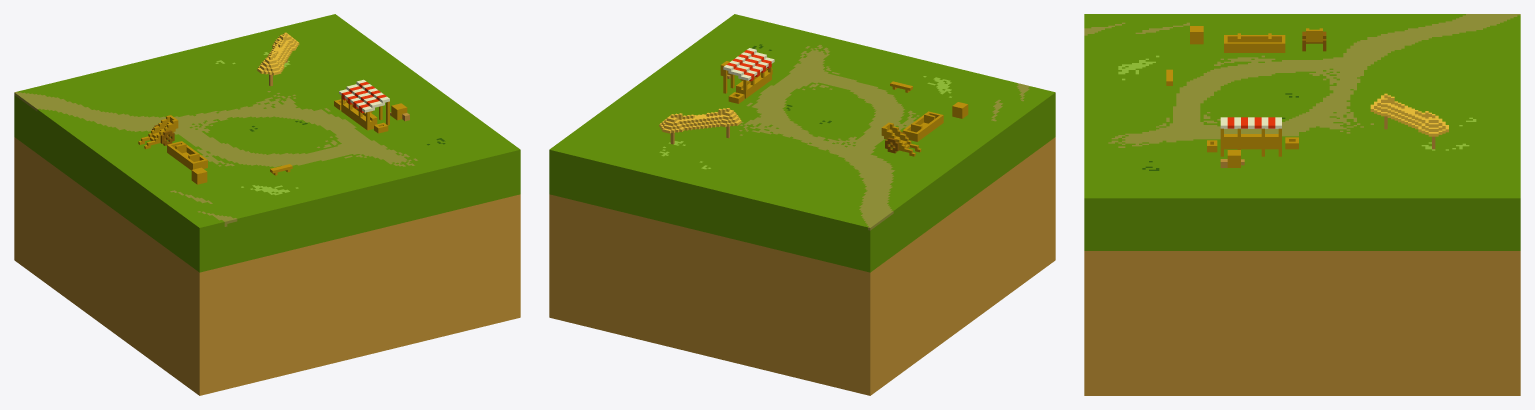
The picture shows the model from 3 angles, left to right: view 1: azimuth 30°, elevation 25°; view 2: azimuth 150°, elevation 25°; view 3: azimuth 270°, elevation 25°; orthographic projection. The views are drawn at different scales.
Visible parts, largest first — view 1: 5F; view 2: 5F; view 3: 5F.
Part boxes in pixels (x1,y1,x2,y2): 5F: [14, 14, 520, 395]; 5F: [549, 14, 1055, 395]; 5F: [1084, 14, 1520, 395].
Size of the model in its own units: 12.8 by 7.5 by 12.8.
1 material, 1 textured.
